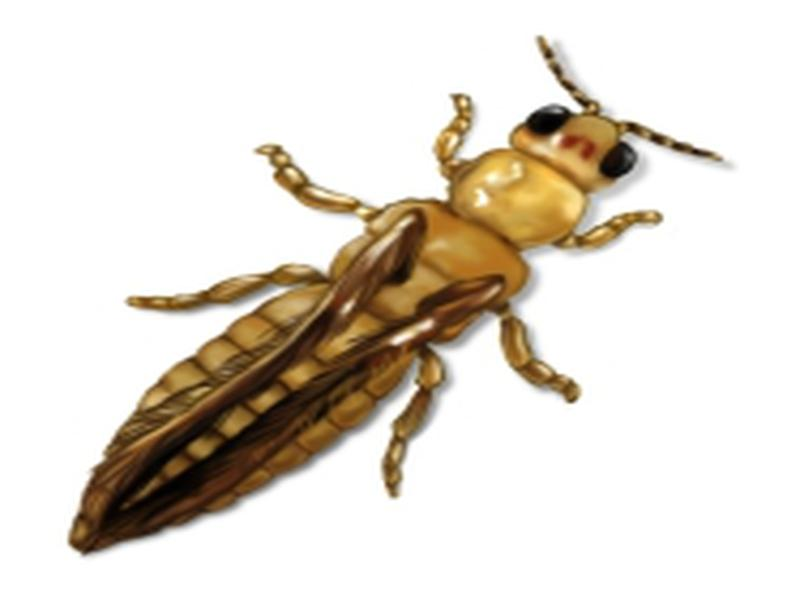Thrips: (72, 67, 663, 564)
